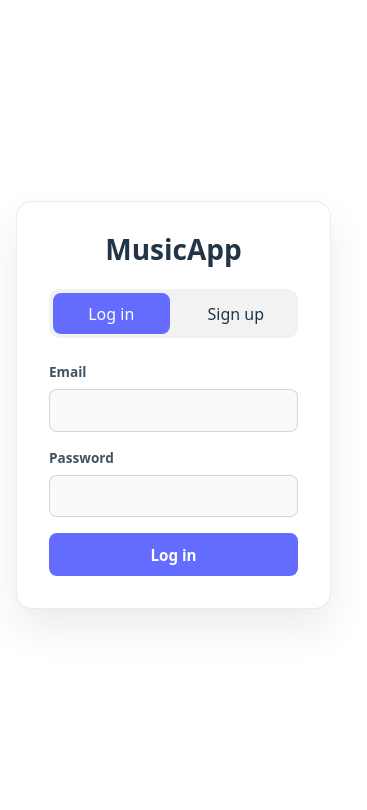
Test: MVP-002 auth screen smoke › shows a validation message when signup passwords do not match
Click the tab "Sign up" at (236, 314), box [178, 293, 294, 334]
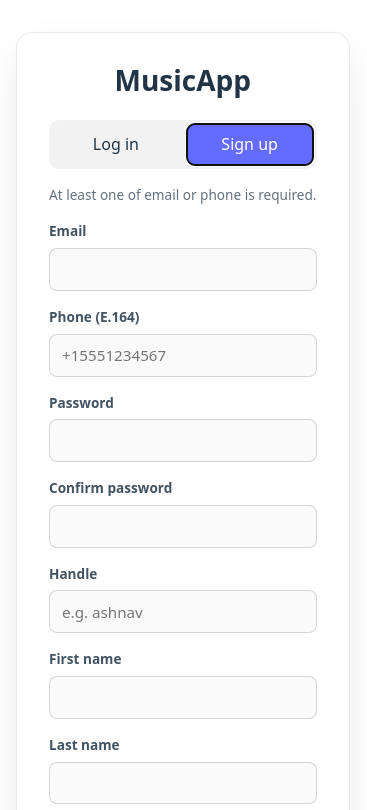
Type "password-1" into the password field labelled "Password" at (183, 441), box [49, 419, 316, 462]
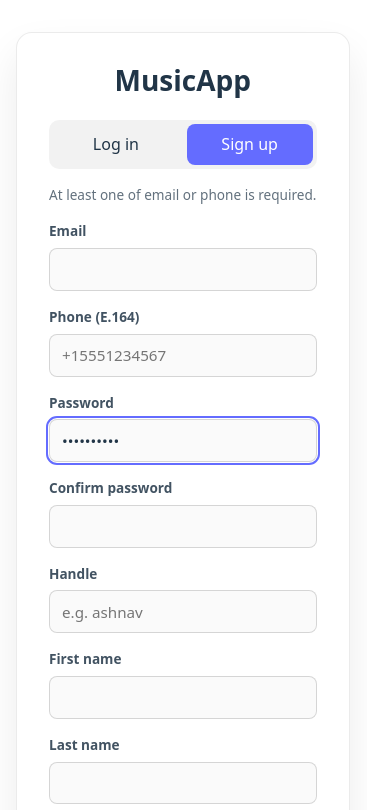
Type "password-2" into the password field labelled "Confirm password" at (183, 526), box [49, 505, 316, 548]
(page scrolled)
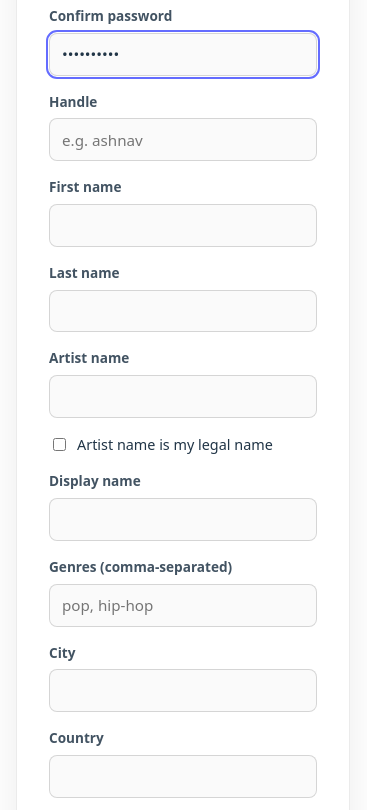
Submit the form named "Create account"
(page scrolled)
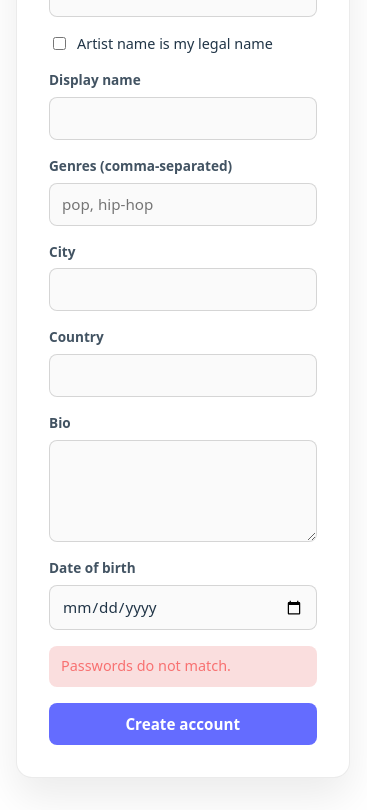
Result: the text "Passwords do not match." is shown at [49, 646, 316, 687]
